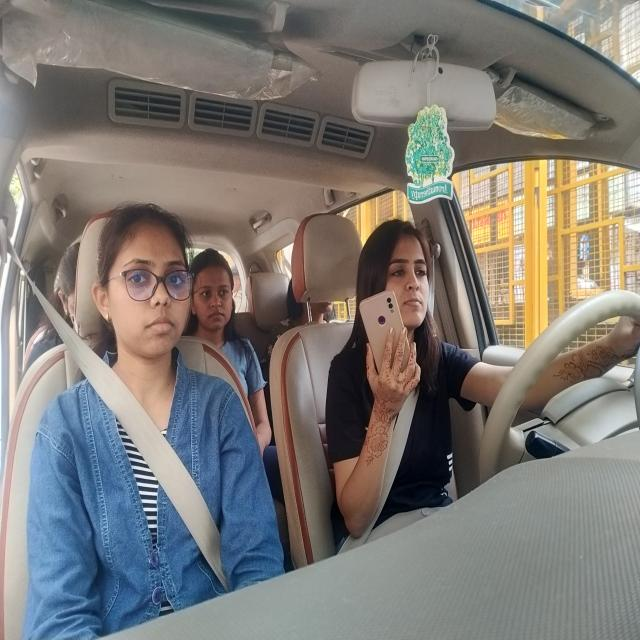mobile: (359, 285, 421, 393)
person: (92, 200, 194, 376), (357, 216, 437, 351), (196, 244, 237, 340), (55, 237, 81, 328)
